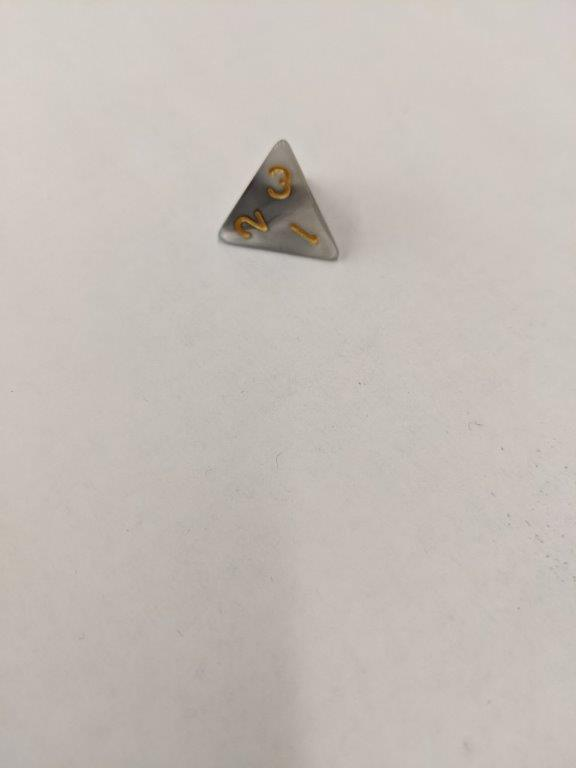d4-3: (210, 134, 345, 269)
